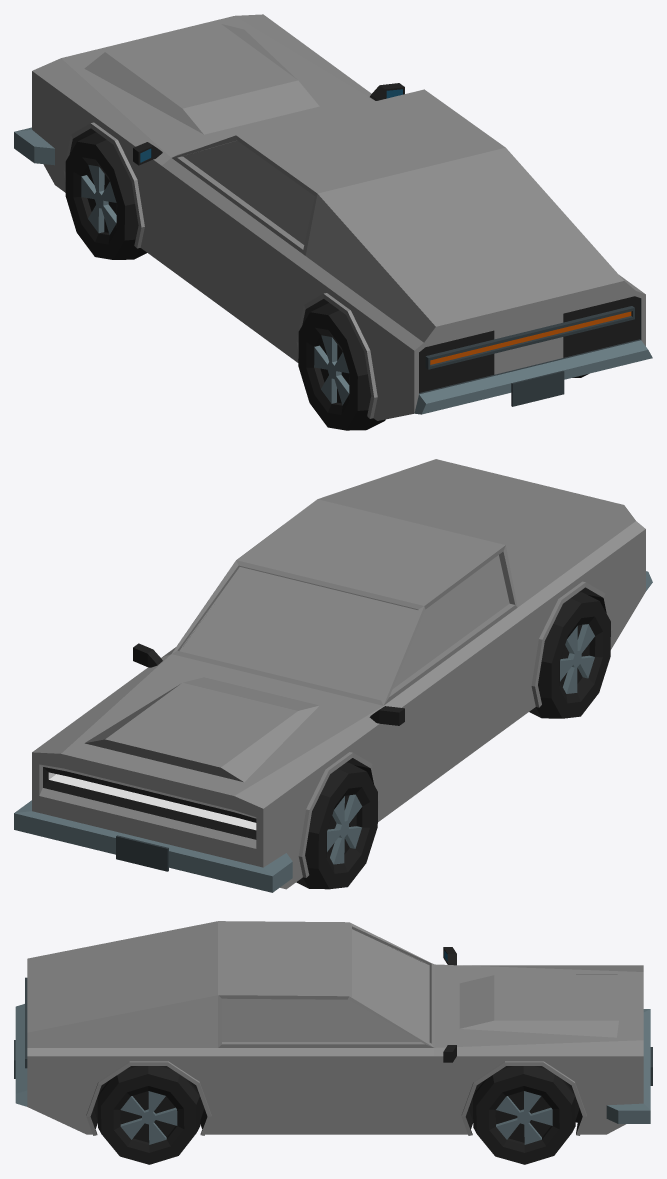
File: car2_2.glb
The picture shows the model from 3 angles, top to bottom: view 1: azimuth 30°, elevation 25°; view 2: azimuth 150°, elevation 25°; view 3: azimuth 270°, elevation 25°; orthographic projection. The views are drawn at different scales.
Parts seen in each view (by area): view 1: MuscleCarV4; view 2: MuscleCarV4; view 3: MuscleCarV4.
Boxes of the visible parts, bbox=[...] form: MuscleCarV4: bbox=[14, 14, 652, 430]; MuscleCarV4: bbox=[14, 459, 652, 892]; MuscleCarV4: bbox=[14, 921, 652, 1164].
Bounding box in the file's own units: 0.6381 × 0.4553 × 1.64.
Materials: 1 (1 with a texture image).
